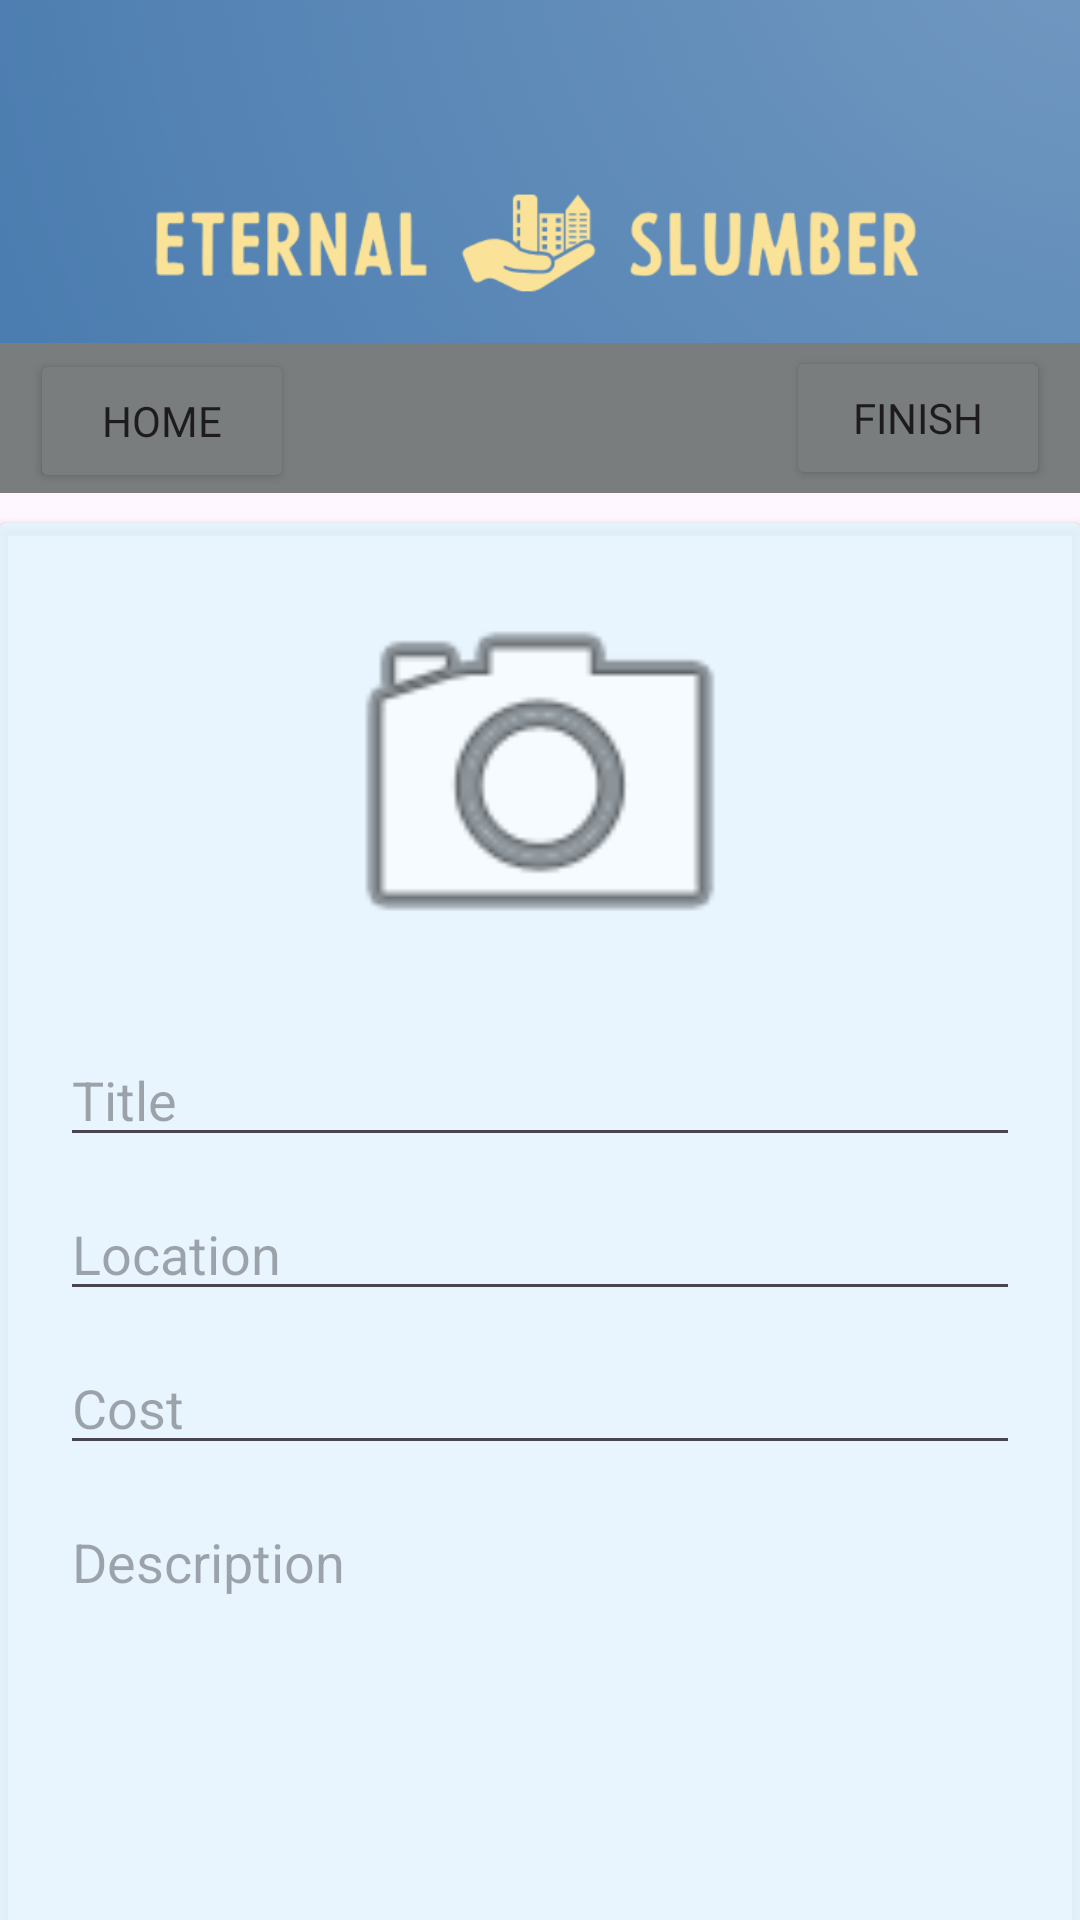

Named icons in this screenshot (1080 × 1920) and their centers, (x=x, y=y):
camera: (x=540, y=771)
